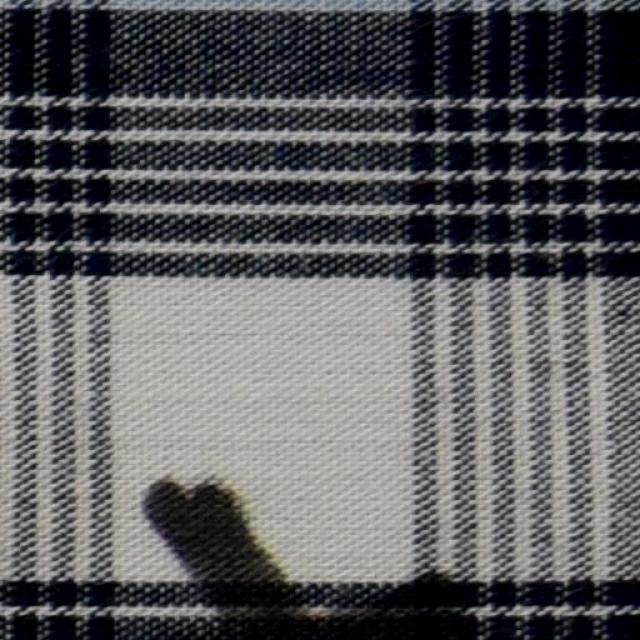Stain: (148, 469, 504, 639)
